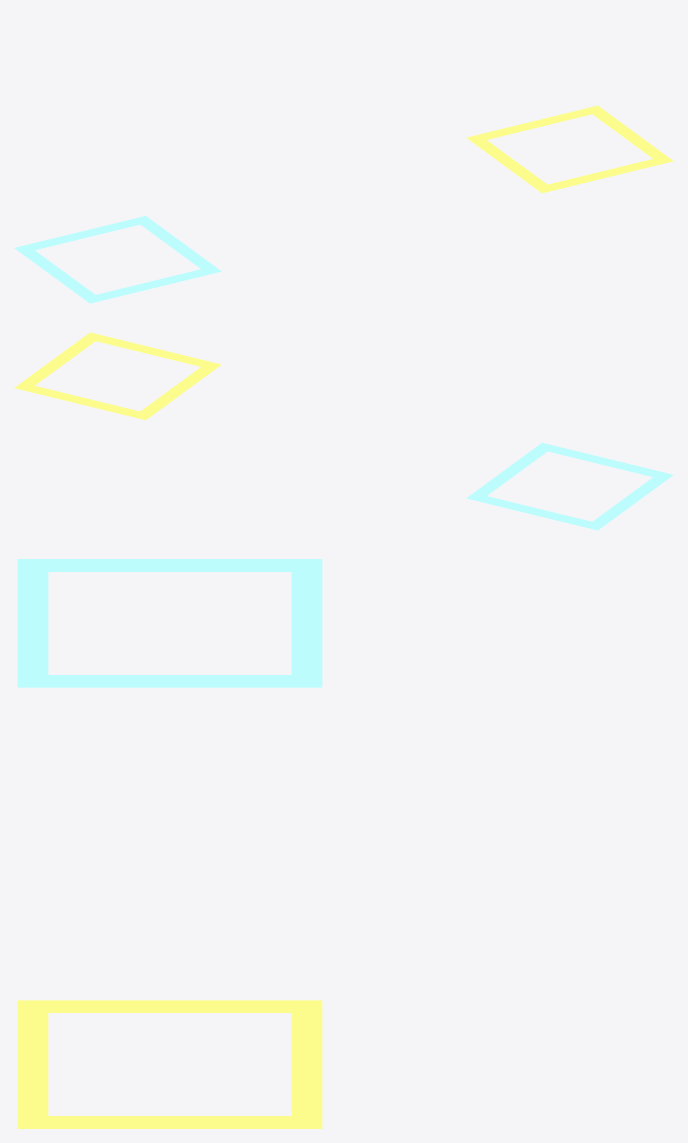
Rendered from jungja_guides.glb.
3 views of the same model, one above another, from view 1: azimuth 30°, elevation 25°; view 2: azimuth 150°, elevation 25°; view 3: azimuth 270°, elevation 25° (orthographic). The views are drawn at different scales.
Parts seen in each view (by area): view 1: Guide_A, Guide_B; view 2: Guide_A, Guide_B; view 3: Guide_A, Guide_B.
Part boxes in pixels (x1,y1,x2,y2): Guide_A: (14, 216, 221, 303); Guide_B: (466, 105, 673, 193); Guide_A: (466, 442, 673, 530); Guide_B: (14, 332, 221, 420); Guide_A: (17, 559, 322, 687); Guide_B: (17, 1000, 322, 1128).
Bounding box in the file's own units: 3.1 × 0.5011 × 1.5.
